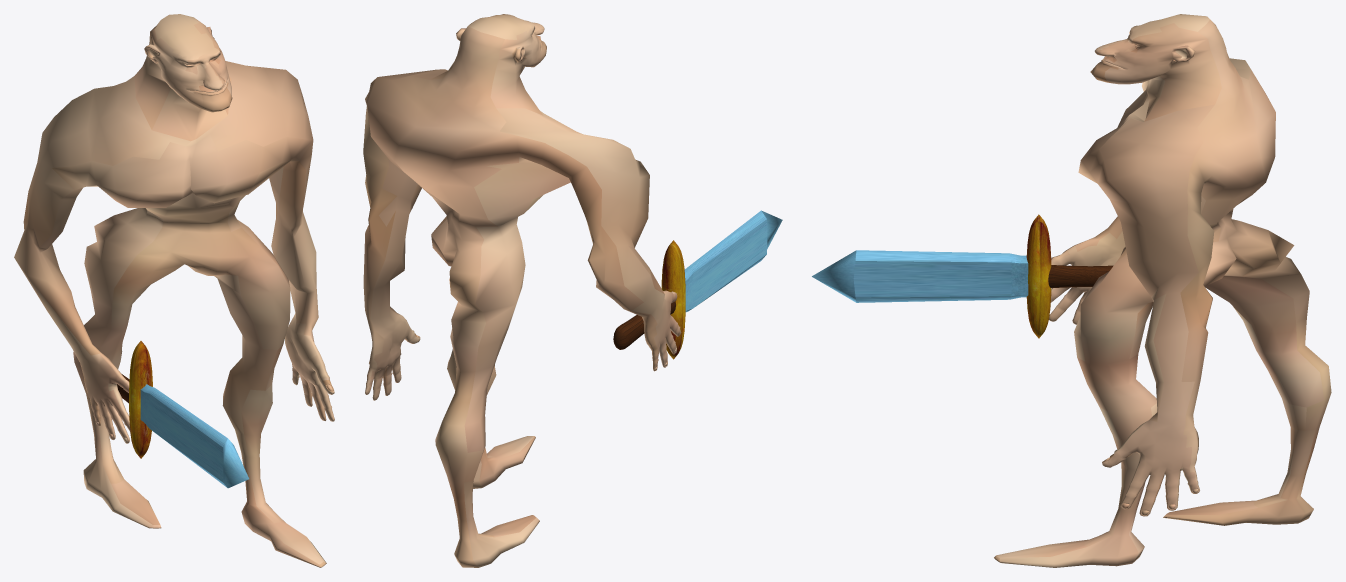
Rendered from attackStance2.obj.
3 renders of one model, left to right at view 1: azimuth 30°, elevation 25°; view 2: azimuth 150°, elevation 25°; view 3: azimuth 270°, elevation 25°, orthographic. The views are drawn at different scales.
Visible parts, largest first — view 1: attackStance2_soldiersoldier120, attackStance2_pCube3; view 2: attackStance2_soldiersoldier120, attackStance2_pCube3; view 3: attackStance2_soldiersoldier120, attackStance2_pCube3.
Part boxes in pixels (box(x1,y1,x2,y2)): attackStance2_soldiersoldier120: box(14, 14, 334, 567); attackStance2_pCube3: box(117, 341, 249, 488); attackStance2_soldiersoldier120: box(363, 14, 681, 567); attackStance2_pCube3: box(613, 210, 782, 359); attackStance2_soldiersoldier120: box(994, 14, 1331, 567); attackStance2_pCube3: box(812, 214, 1113, 338).
Bounding box in the file's own units: 2.61 × 4.34 × 3.97.
Materials: 4 (4 with a texture image).
